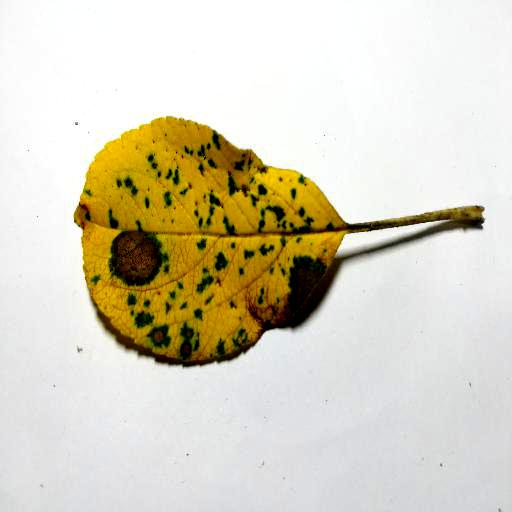Brown_Spot: (102, 230, 162, 282), (290, 253, 321, 319), (245, 295, 280, 330), (131, 316, 168, 348), (173, 320, 198, 367)
